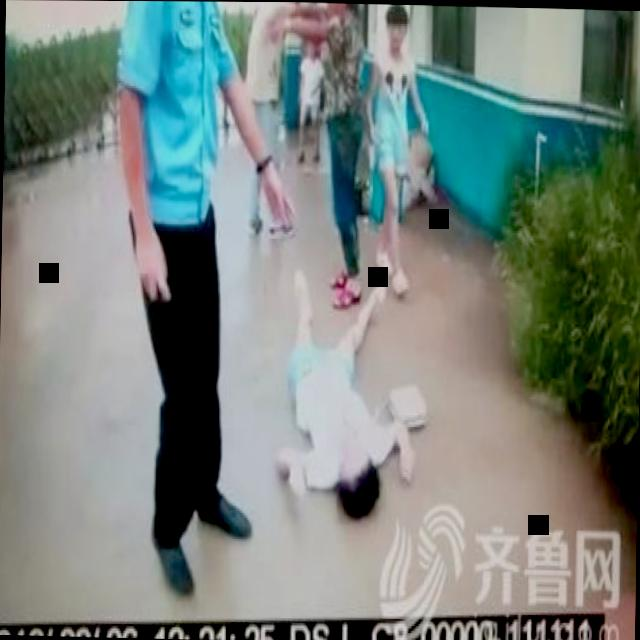Fall-Detected: (260, 245, 423, 528)
